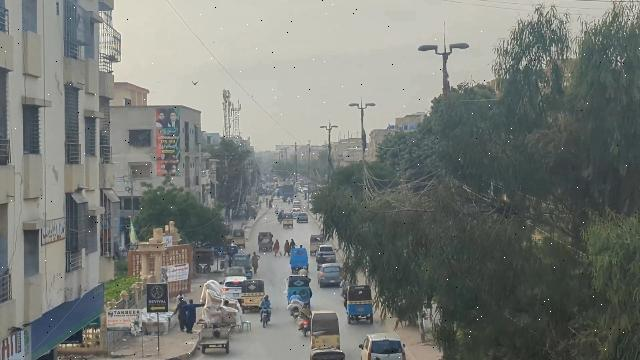Bike: (260, 309, 270, 330), (300, 319, 310, 336), (291, 306, 299, 322)
Car: (357, 331, 407, 360), (316, 263, 345, 289), (221, 276, 247, 300)
Cart: (196, 327, 231, 353)
Person: (183, 298, 197, 334), (174, 296, 188, 332), (251, 251, 261, 274), (288, 290, 301, 305), (260, 294, 270, 311), (299, 303, 310, 318)
Rickshaw: (309, 310, 342, 350), (345, 284, 374, 324), (241, 279, 265, 312), (287, 275, 311, 307), (289, 248, 310, 273), (310, 347, 346, 360)
